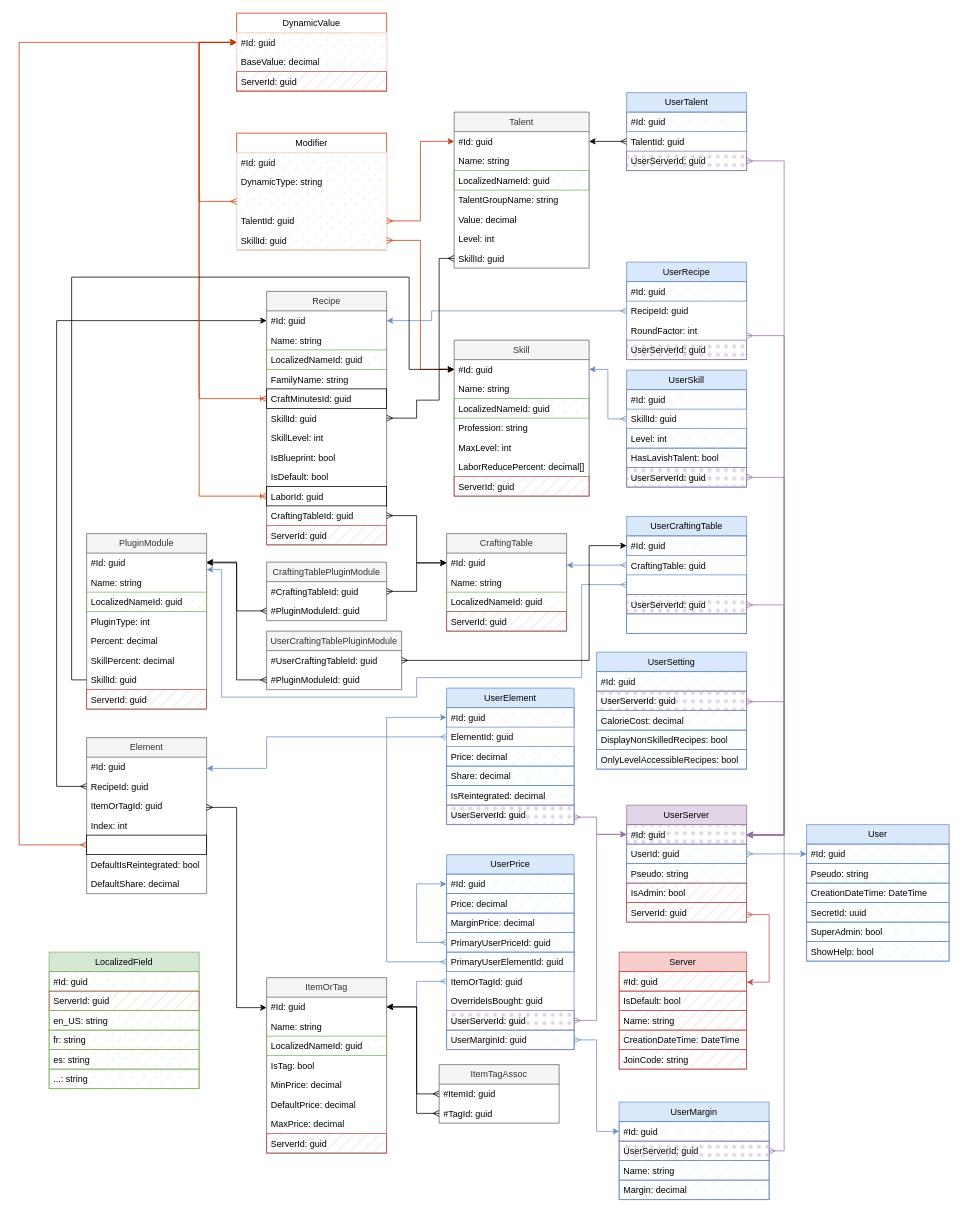
Image size: 962x1215. Some labels were removed from this diagram. The centre of each missing label's shape, as x and y in pixels:
CraftMinuteFee: decimal: [686,623]
DynamicValueId: guid: [311,201]
PluginModuleId: guid: [686,584]
QuantityId: guid: [146,844]
